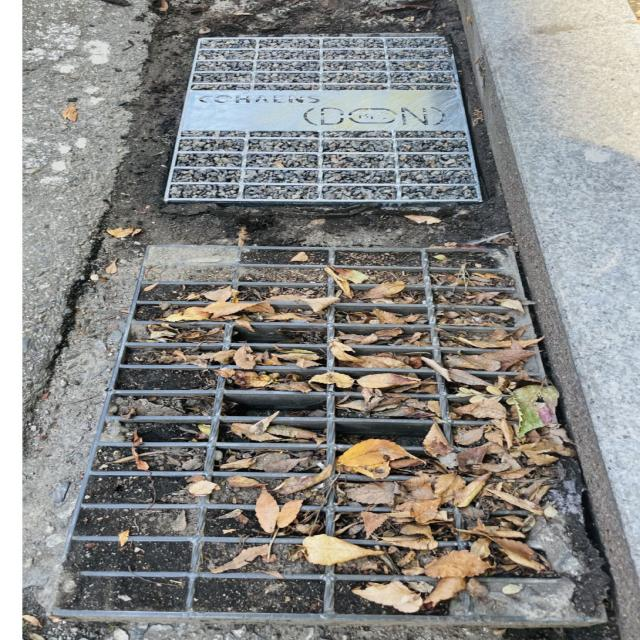drain_area: (216, 391, 436, 460), (230, 323, 329, 346)
drain_full: (51, 247, 604, 624)
